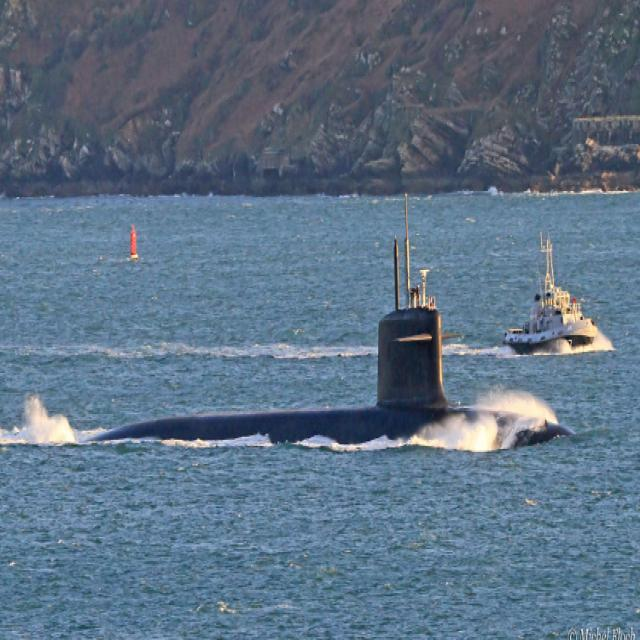submarine: (90, 310, 572, 459)
